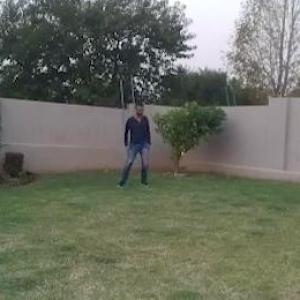follow: (121, 94, 152, 192)
